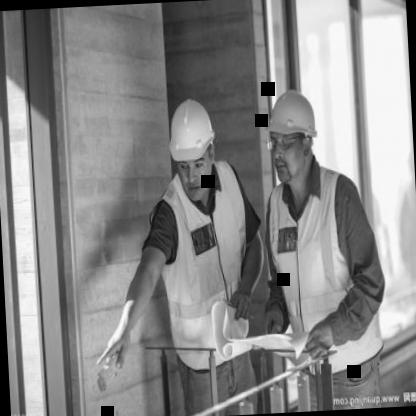helmet: (160, 88, 224, 206), (261, 80, 324, 192)
